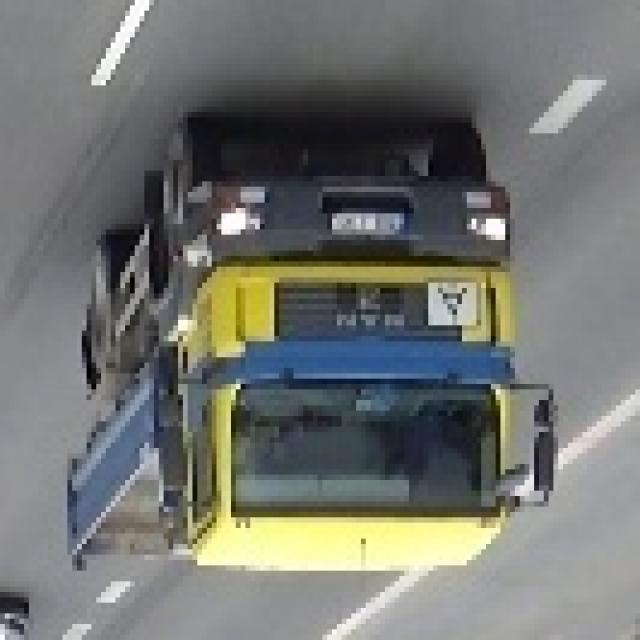truck: (52, 118, 554, 582)
